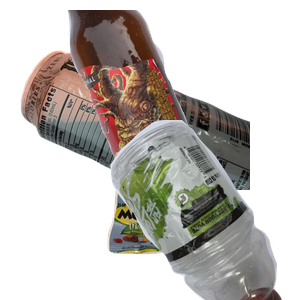glass: (65, 10, 300, 190)
metal: (18, 48, 258, 228)
plastic: (73, 120, 300, 300)
trash: (105, 152, 280, 300)
